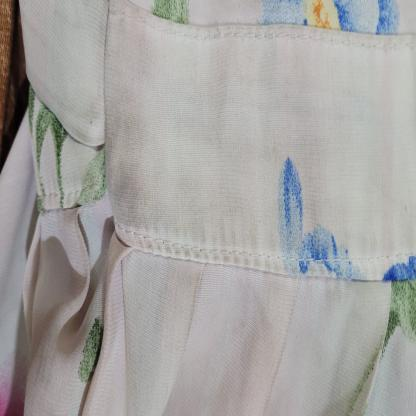spot: (179, 214, 338, 282), (106, 108, 160, 250)
